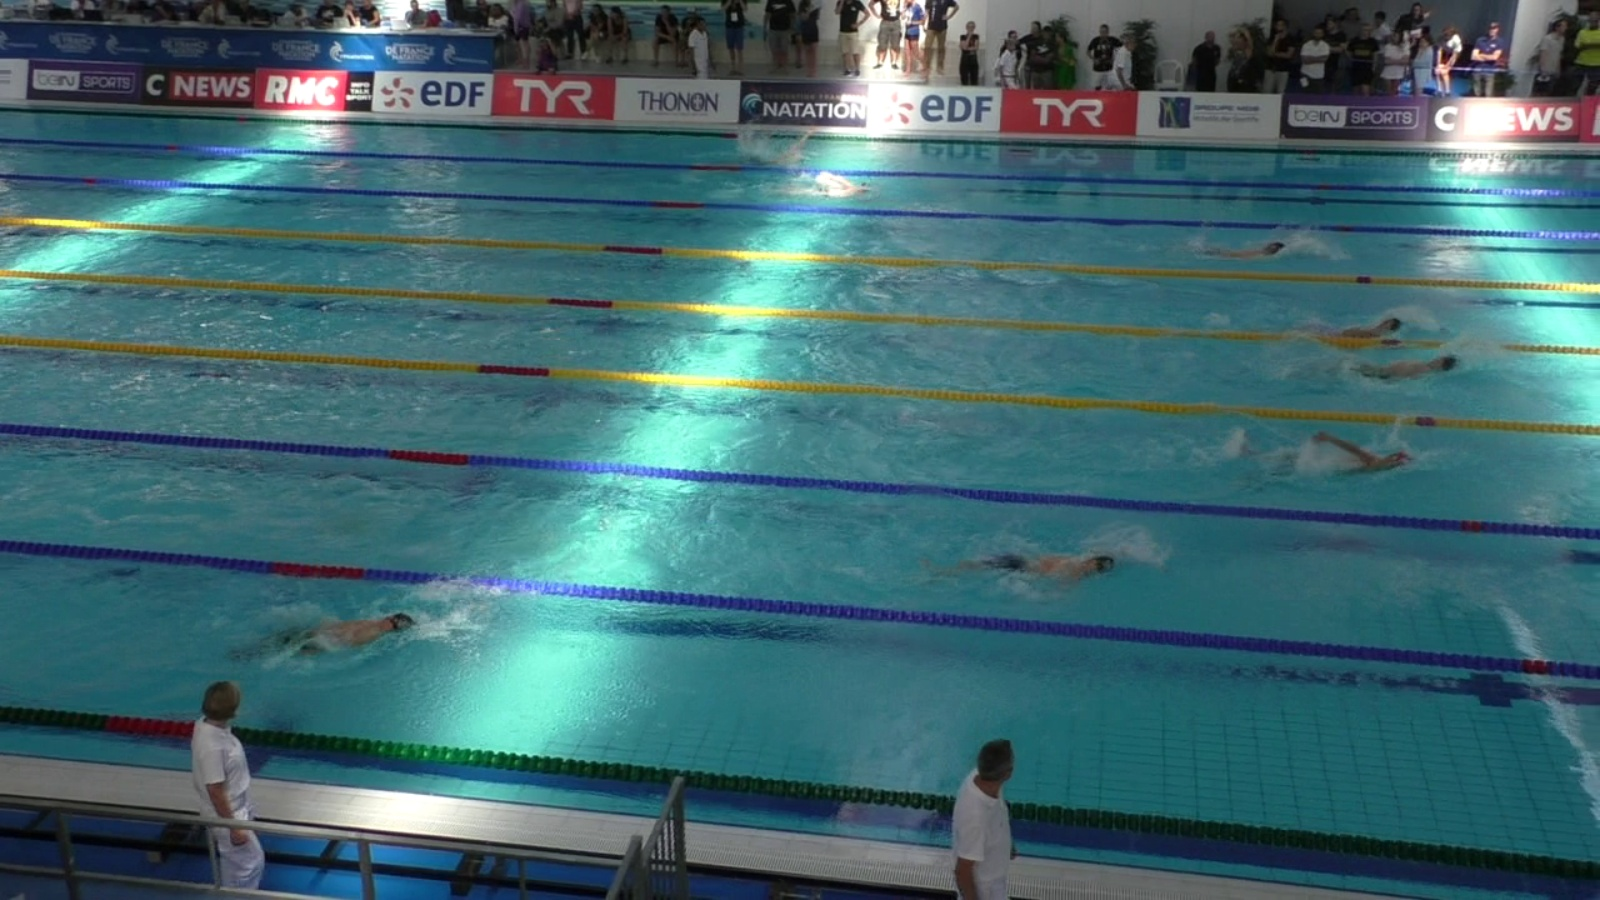swimmerw: (223, 607, 421, 671), (1246, 435, 1422, 480), (907, 549, 1126, 584), (1313, 347, 1469, 381), (727, 131, 819, 165), (778, 173, 882, 197), (1289, 313, 1407, 327), (1169, 237, 1298, 249)
